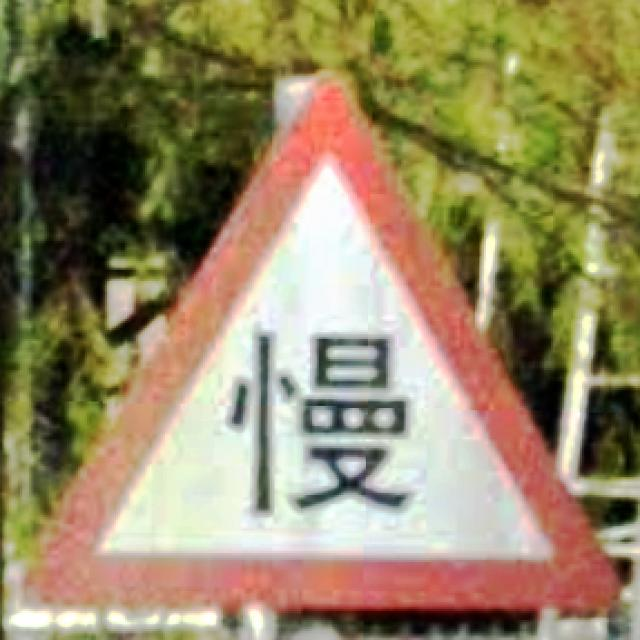slow: (25, 74, 622, 615)
